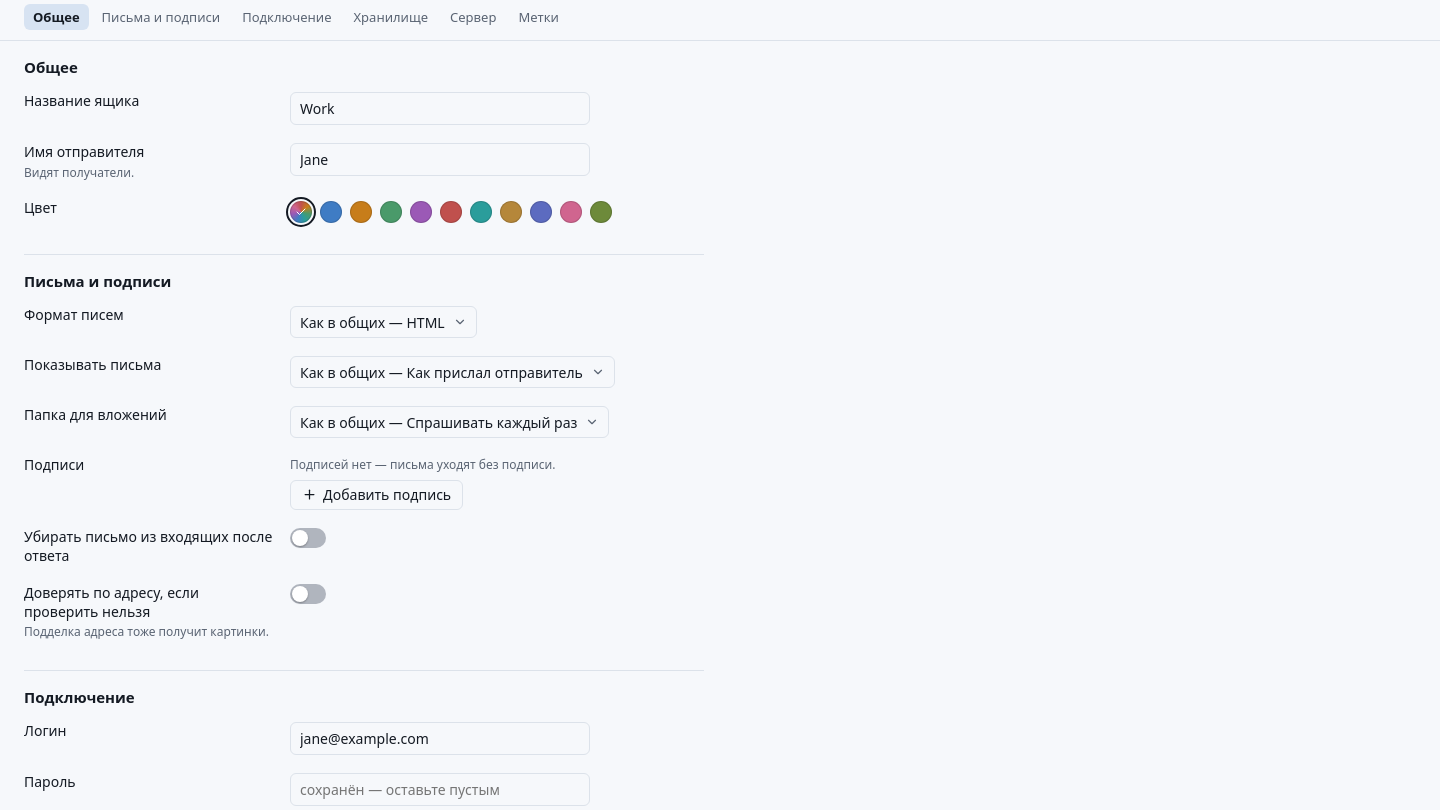
it: a mailbox's page as screen 8 draws it (0.8.12) › picks the folder in the system dialog from the list's last item and saves it
Click the button with class "trigger" that starts with "Как в общих — Спрашивать каждый раз": {"x": 450, "y": 422} [290,406,609,438]
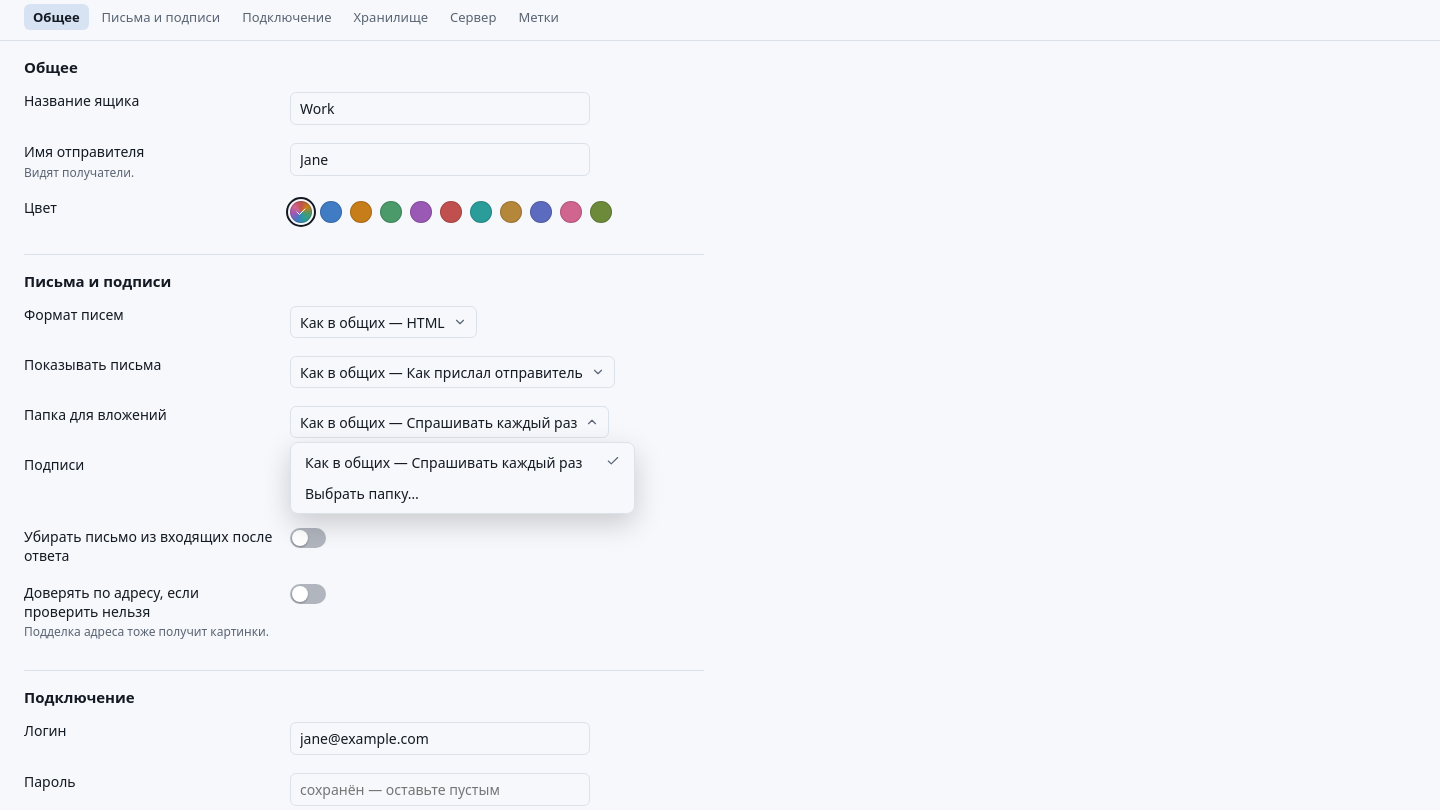
Click the option "Выбрать папку…": {"x": 362, "y": 494} [295,478,630,509]
Wait 200 ms
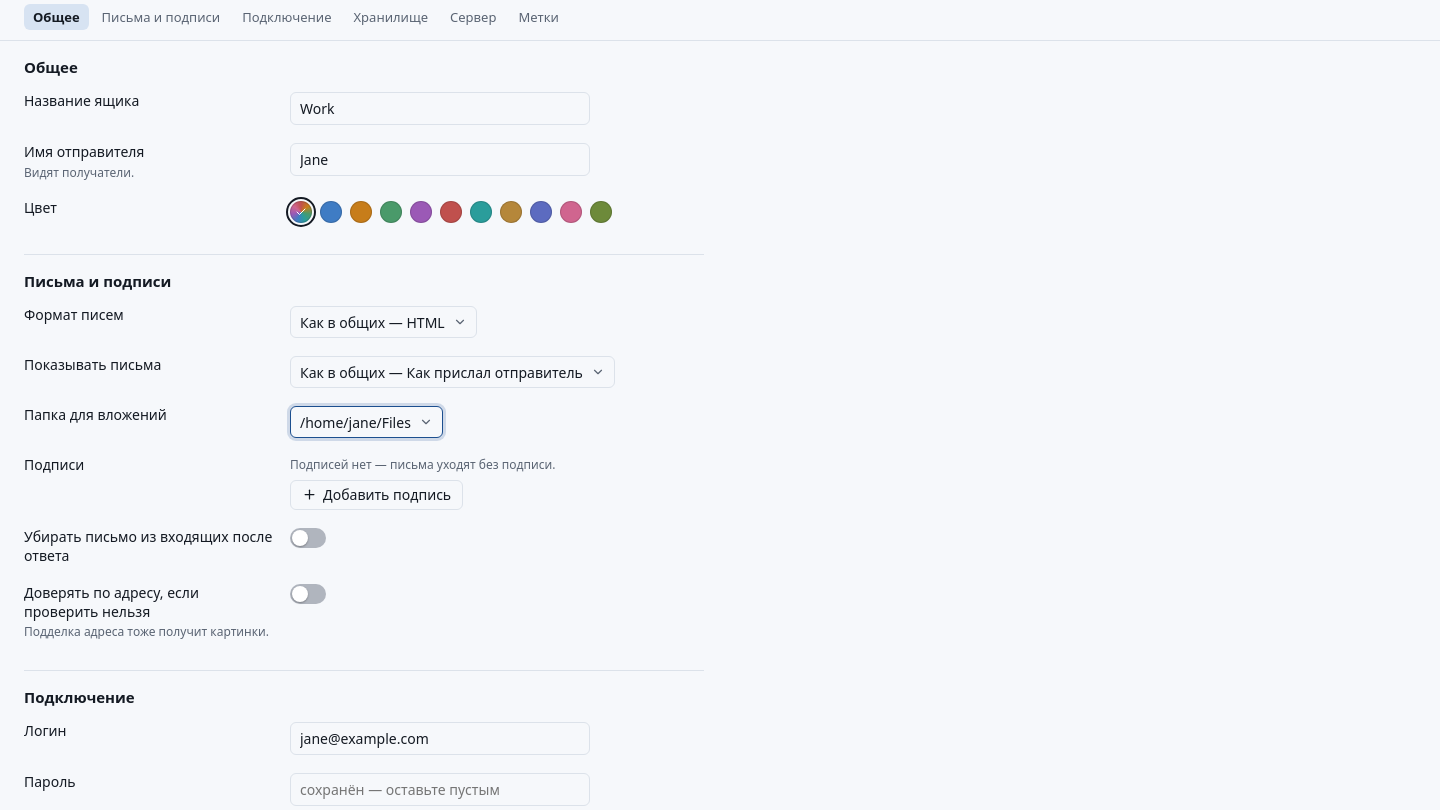
Expected: the text "/home/jane/Files" is shown, [300,413,411,432]
Expected: the button with class "trigger" reads "/home/jane/Files", [290,406,443,438]
